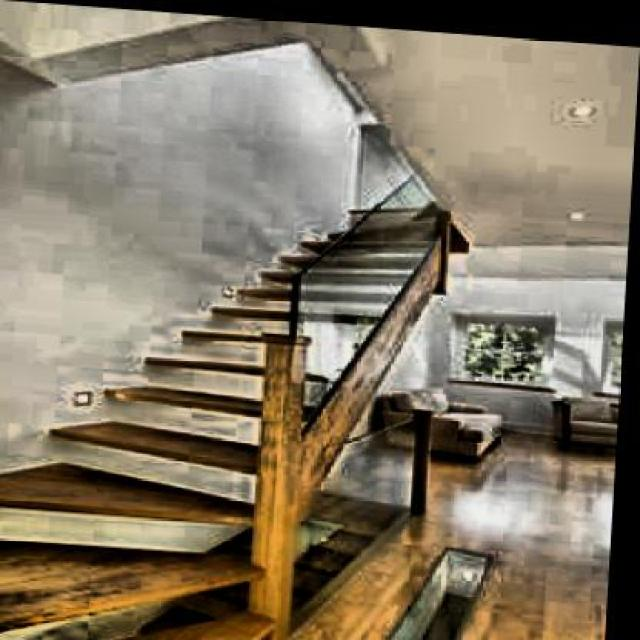stair: (0, 160, 349, 522)
